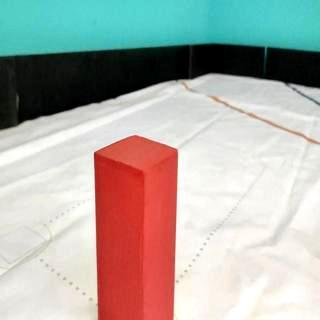redbox: (92, 133, 178, 320)
